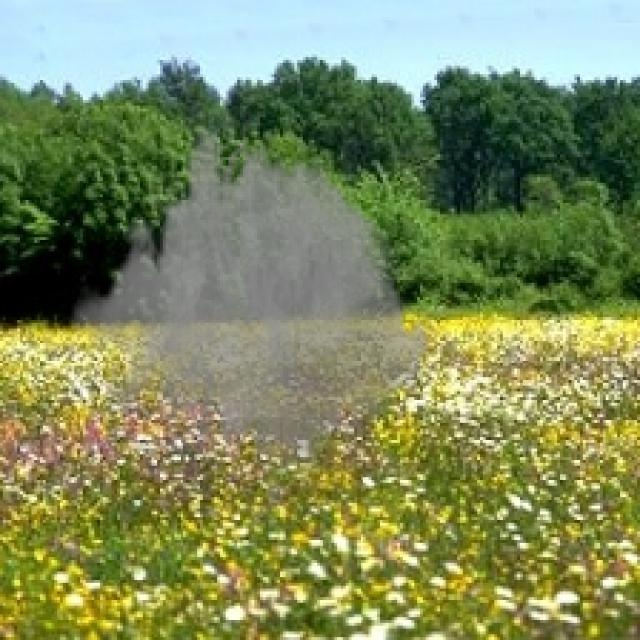smoke: (69, 108, 432, 503)
